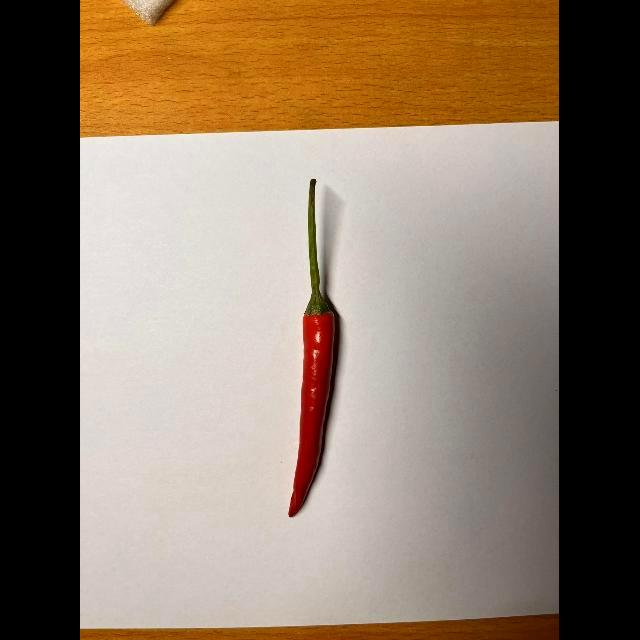chili_pepper: (281, 178, 340, 518)
